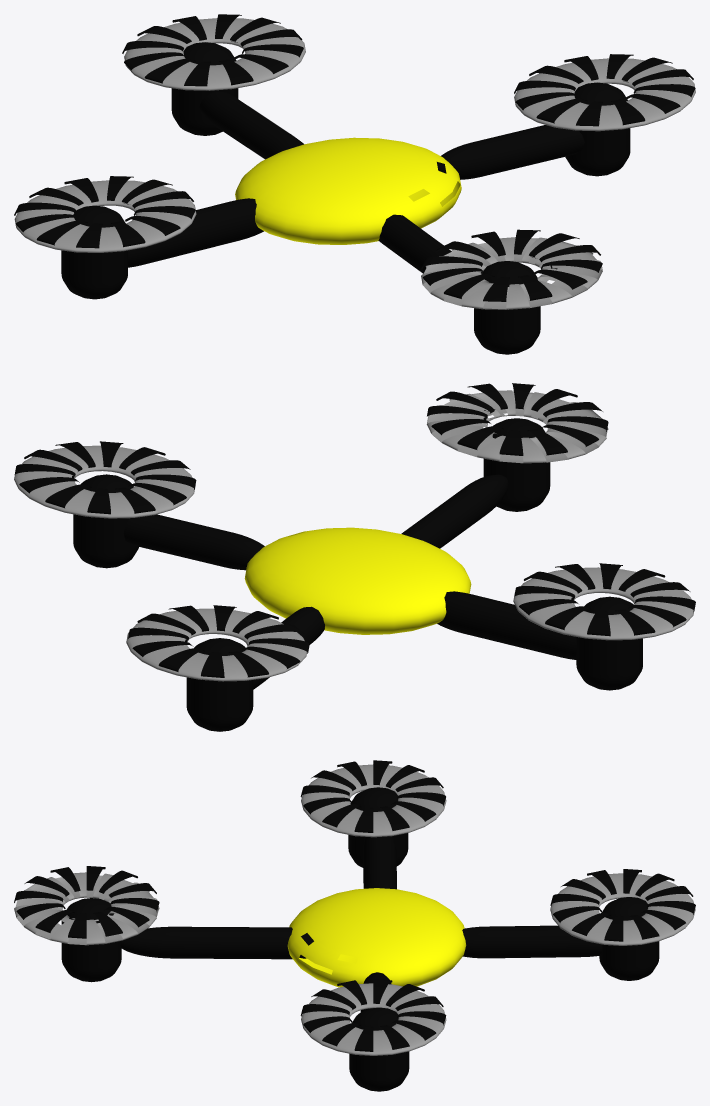
File: generic-drone.obj
3 renders of one model, top to bottom at view 1: azimuth 30°, elevation 25°; view 2: azimuth 150°, elevation 25°; view 3: azimuth 270°, elevation 25°, orthographic. The views are drawn at different scales.
Visible parts, largest first — view 1: Body, PropGray.002, PropGray, PropGray.001, PropGray.003, PropBlack.002_PropBlack, PropBlack.001_PropBlack, PropBlack.003_PropBlack, PropBlack, Arm, Arm.001, Motor.001 (+5 smaller); view 2: Body, PropGray.002, PropGray, PropGray.001, PropGray.003, PropBlack.002_PropBlack, PropBlack, PropBlack.003_PropBlack, PropBlack.001_PropBlack, Arm.001, Arm, Motor (+5 smaller); view 3: Body, Arm.002, PropGray.002, PropGray, PropGray.003, PropGray.001, PropBlack, PropBlack.003_PropBlack, PropBlack.002_PropBlack, PropBlack.001_PropBlack, Arm.003, Motor.002 (+4 smaller).
Boxes of the visible parts, <box> form: Body: <box>235,137,461,244</box>; PropGray.002: <box>421,237,602,309</box>; PropGray: <box>514,58,695,131</box>; PropGray.001: <box>14,180,196,252</box>; PropGray.003: <box>124,18,305,90</box>; PropBlack.002_PropBlack: <box>421,229,602,301</box>; PropBlack.001_PropBlack: <box>122,14,303,86</box>; PropBlack.003_PropBlack: <box>514,54,695,126</box>; PropBlack: <box>14,176,195,248</box>; Arm: <box>437,125,584,179</box>; Arm.001: <box>128,198,263,267</box>; Motor.001: <box>61,205,127,299</box>; Body: <box>244,527,471,634</box>; PropGray.002: <box>426,390,608,463</box>; PropGray: <box>14,445,195,518</box>; PropGray.001: <box>513,567,693,640</box>; PropGray.003: <box>126,608,306,681</box>; PropBlack.002_PropBlack: <box>427,383,608,455</box>; PropBlack: <box>514,563,695,636</box>; PropBlack.003_PropBlack: <box>14,441,196,514</box>; PropBlack.001_PropBlack: <box>128,605,309,677</box>; Arm.001: <box>437,591,576,659</box>; Arm: <box>123,514,264,570</box>; Motor: <box>186,638,253,731</box>; Body: <box>287,888,466,987</box>; Arm.002: <box>120,926,313,959</box>; PropGray.002: <box>14,872,159,945</box>; PropGray: <box>301,983,446,1055</box>; PropGray.003: <box>550,873,695,945</box>; PropGray.001: <box>301,764,446,837</box>; PropBlack: <box>300,760,445,832</box>; PropBlack.003_PropBlack: <box>300,979,446,1051</box>; PropBlack.002_PropBlack: <box>14,866,159,938</box>; PropBlack.001_PropBlack: <box>550,869,695,941</box>; Arm.003: <box>462,925,602,958</box>; Motor.002: <box>61,898,121,982</box>.
Bounding box in the file's own units: 11.49 × 1.5 × 11.4.
